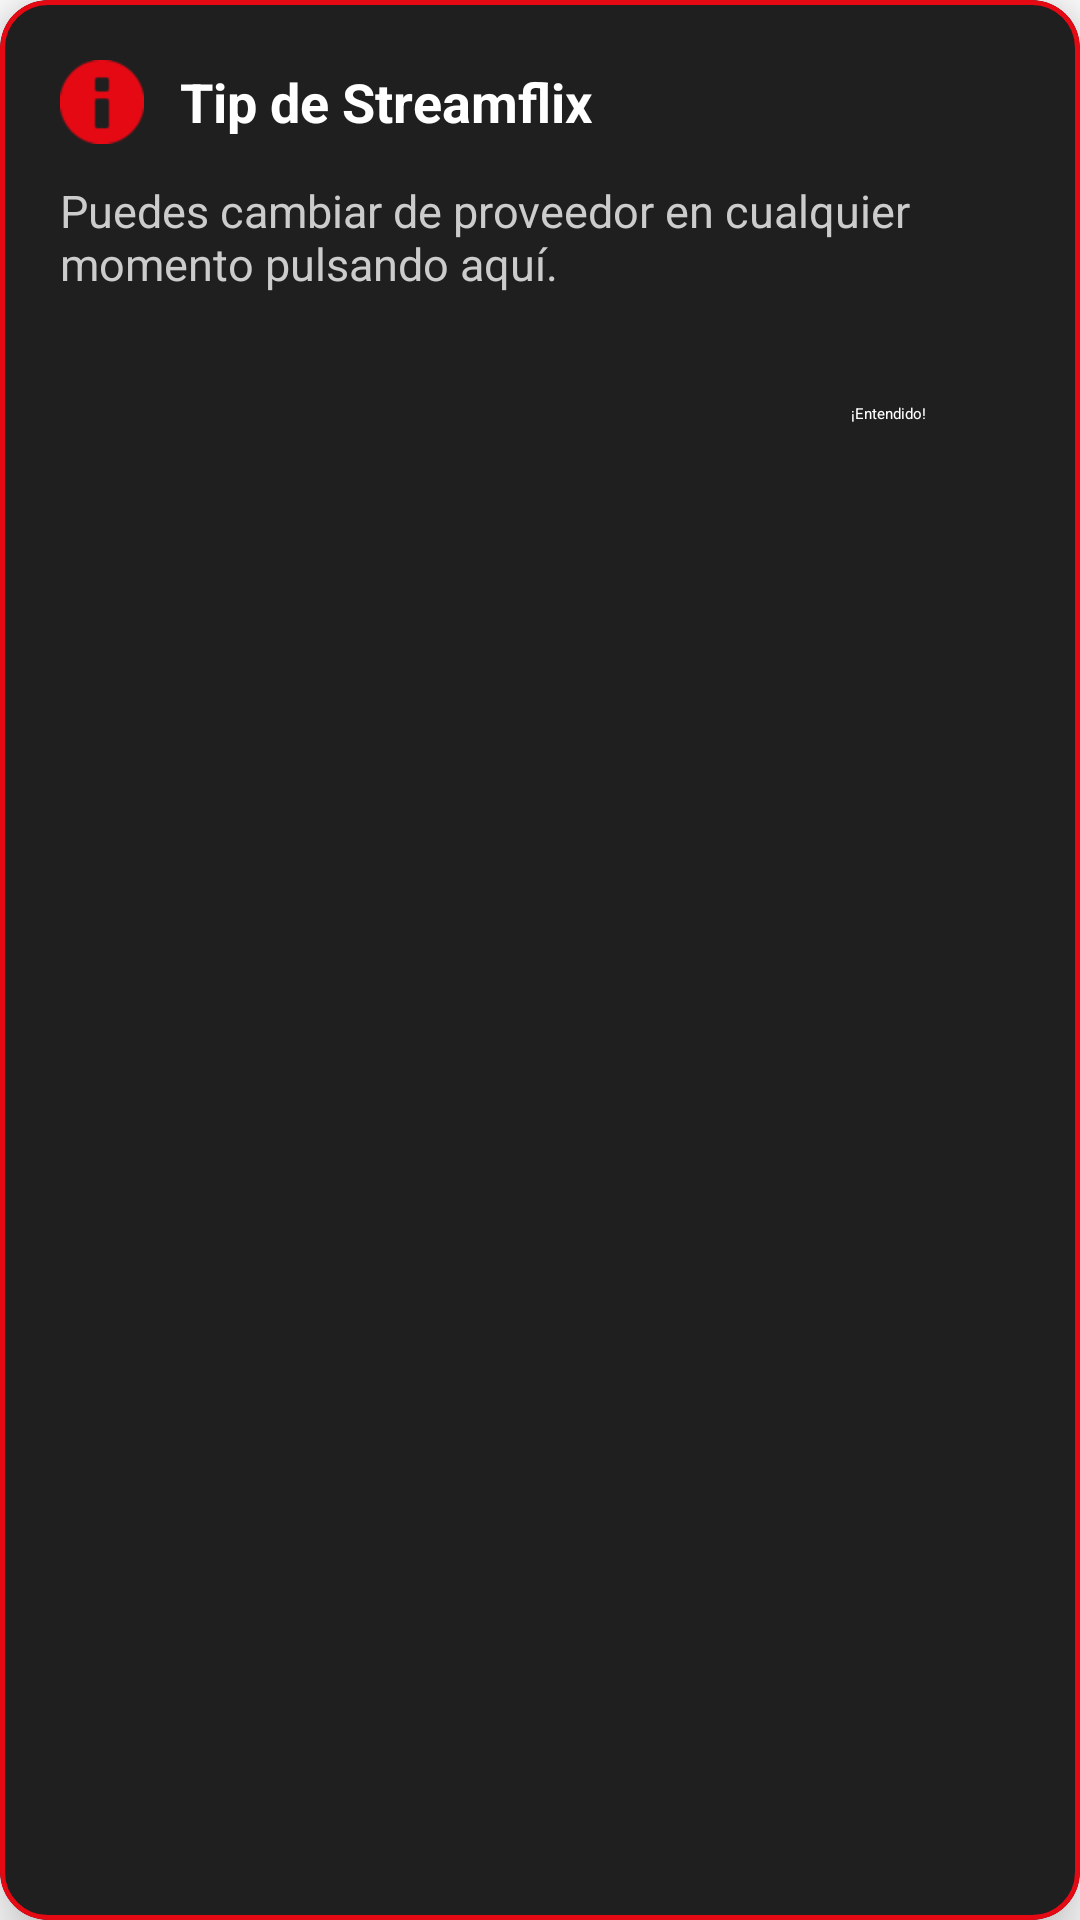

Where to tap for icons on this 1080×1920 app screen, as point (x, y):
info: point (102, 102)
